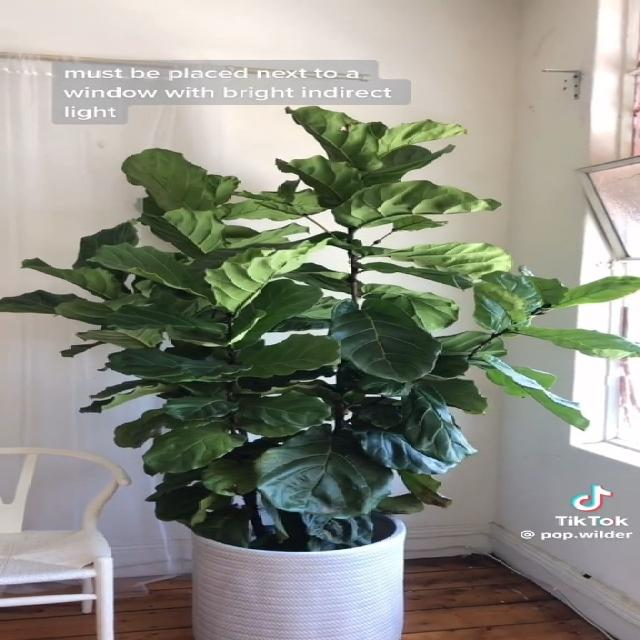roslina_zdrowa: (0, 107, 640, 549)
